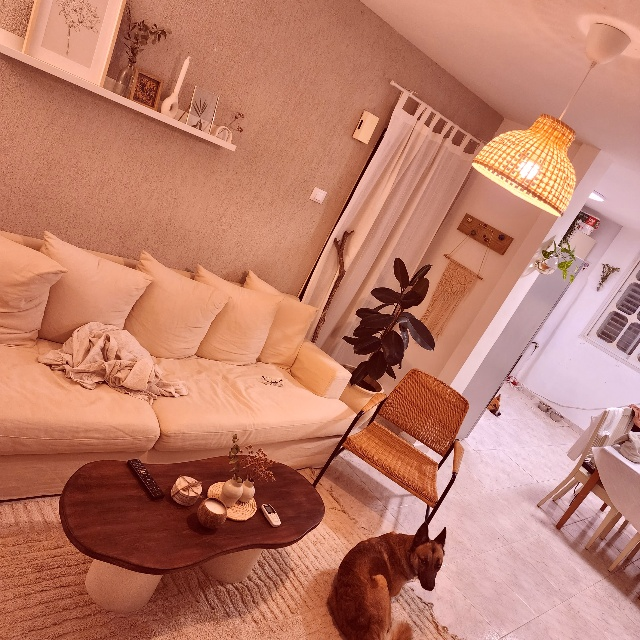glasses: (259, 370, 287, 388)
